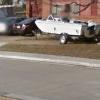Boat: (32, 12, 99, 57)
